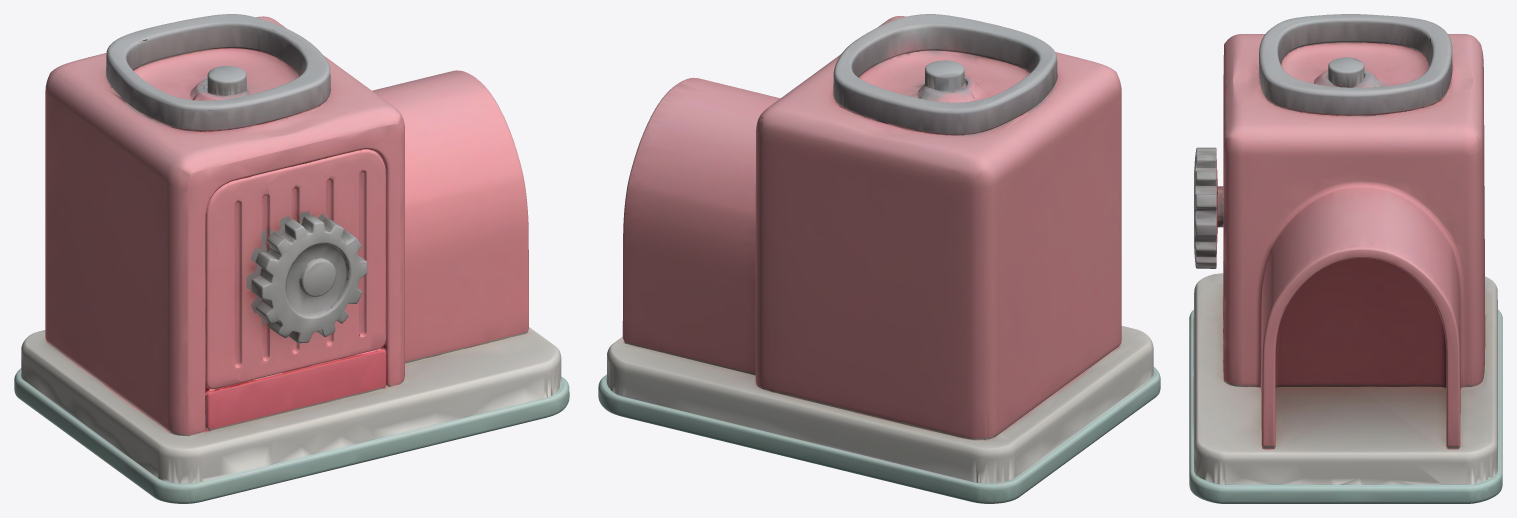
File: hopper-housing-red.glb
3 views of the same model, side by side, from view 1: azimuth 30°, elevation 25°; view 2: azimuth 150°, elevation 25°; view 3: azimuth 270°, elevation 25° (orthographic). The views are drawn at different scales.
Parts seen in each view (by area): view 1: hopper-housing-red; view 2: hopper-housing-red; view 3: hopper-housing-red.
Boxes of the visible parts, left/top/right/bottom form: hopper-housing-red: left=14, top=14, right=569, bottom=503; hopper-housing-red: left=598, top=14, right=1160, bottom=503; hopper-housing-red: left=1189, top=14, right=1502, bottom=503.
Size of the model in its own units: 1.12 by 0.9083 by 0.7877.
Materials: 1 (1 with a texture image).
